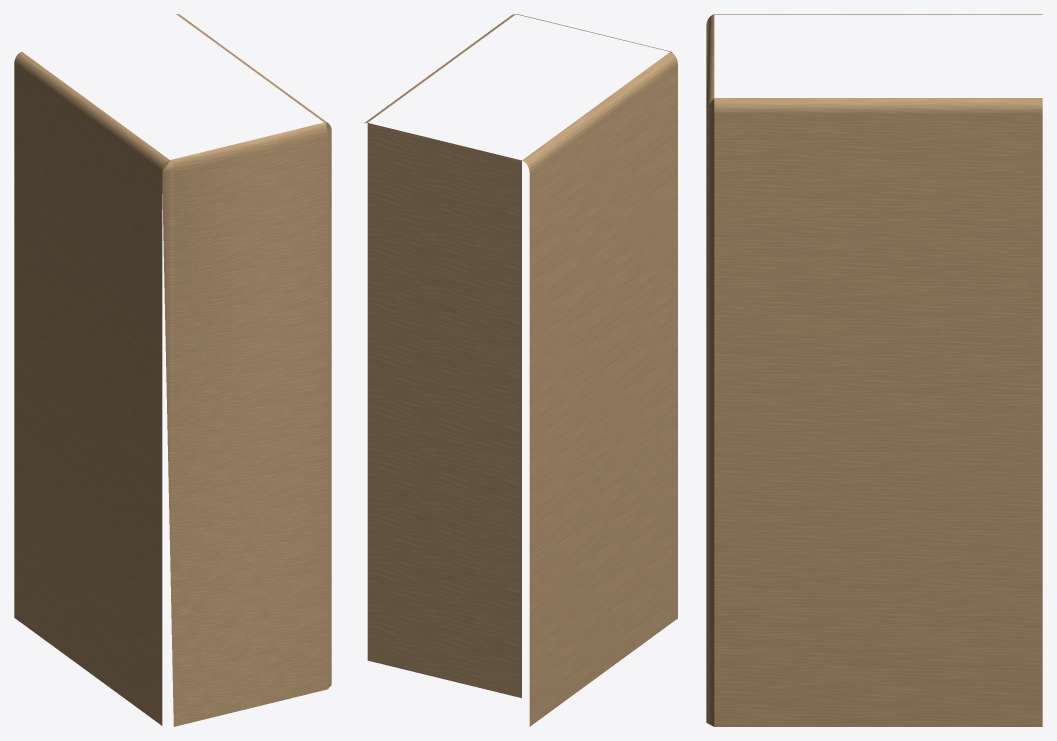
File: Level2_02.glb
3 renders of one model, left to right at view 1: azimuth 30°, elevation 25°; view 2: azimuth 150°, elevation 25°; view 3: azimuth 270°, elevation 25°, orthographic. The views are drawn at different scales.
Visible parts, largest first — view 1: Level2_02; view 2: Level2_02; view 3: Level2_02.
Boxes of the visible parts, left/top/right/bottom form: Level2_02: left=14, top=14, right=331, bottom=726; Level2_02: left=364, top=14, right=677, bottom=726; Level2_02: left=706, top=14, right=1042, bottom=726.
Size of the model in its own units: 33 by 105 by 51.25.
1 material, 1 textured.
